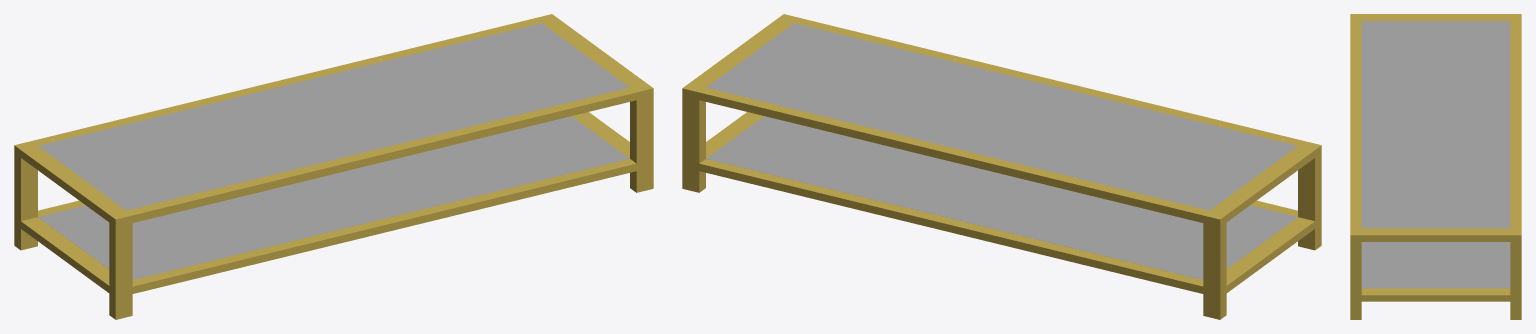
Rendered from fbx_glasstable_1.fbx.
The picture shows the model from 3 angles, left to right: view 1: azimuth 30°, elevation 25°; view 2: azimuth 150°, elevation 25°; view 3: azimuth 270°, elevation 25°; orthographic projection. The views are drawn at different scales.
Visible parts, largest first — view 1: fbx_glasstable_1; view 2: fbx_glasstable_1; view 3: fbx_glasstable_1.
Part boxes in pixels (x1,y1,x2,y2): fbx_glasstable_1: [14, 14, 653, 319]; fbx_glasstable_1: [682, 14, 1321, 319]; fbx_glasstable_1: [1350, 14, 1521, 319].
Bounding box in the file's own units: 2.5 × 0.4463 × 0.8185.
2 materials, 1 textured.
